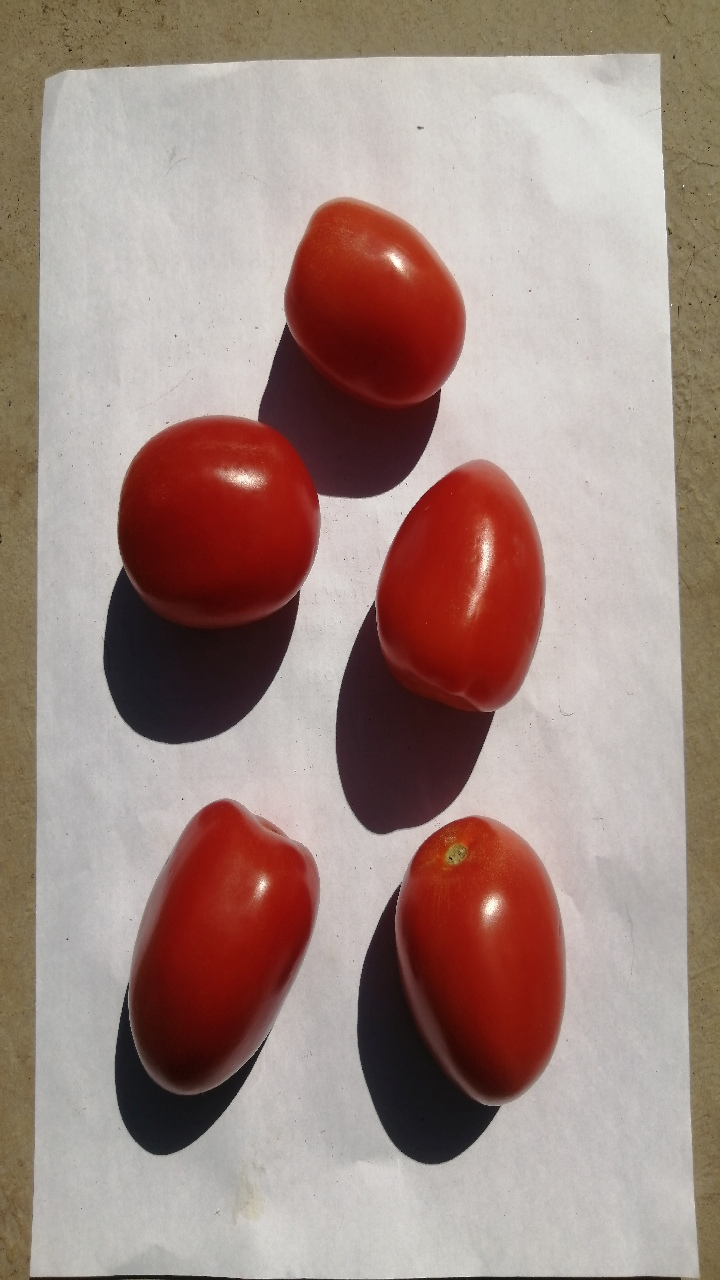tomateRojo: (101, 794, 331, 1126), (375, 800, 575, 1119), (104, 392, 332, 660), (261, 179, 491, 432), (358, 440, 552, 731)
